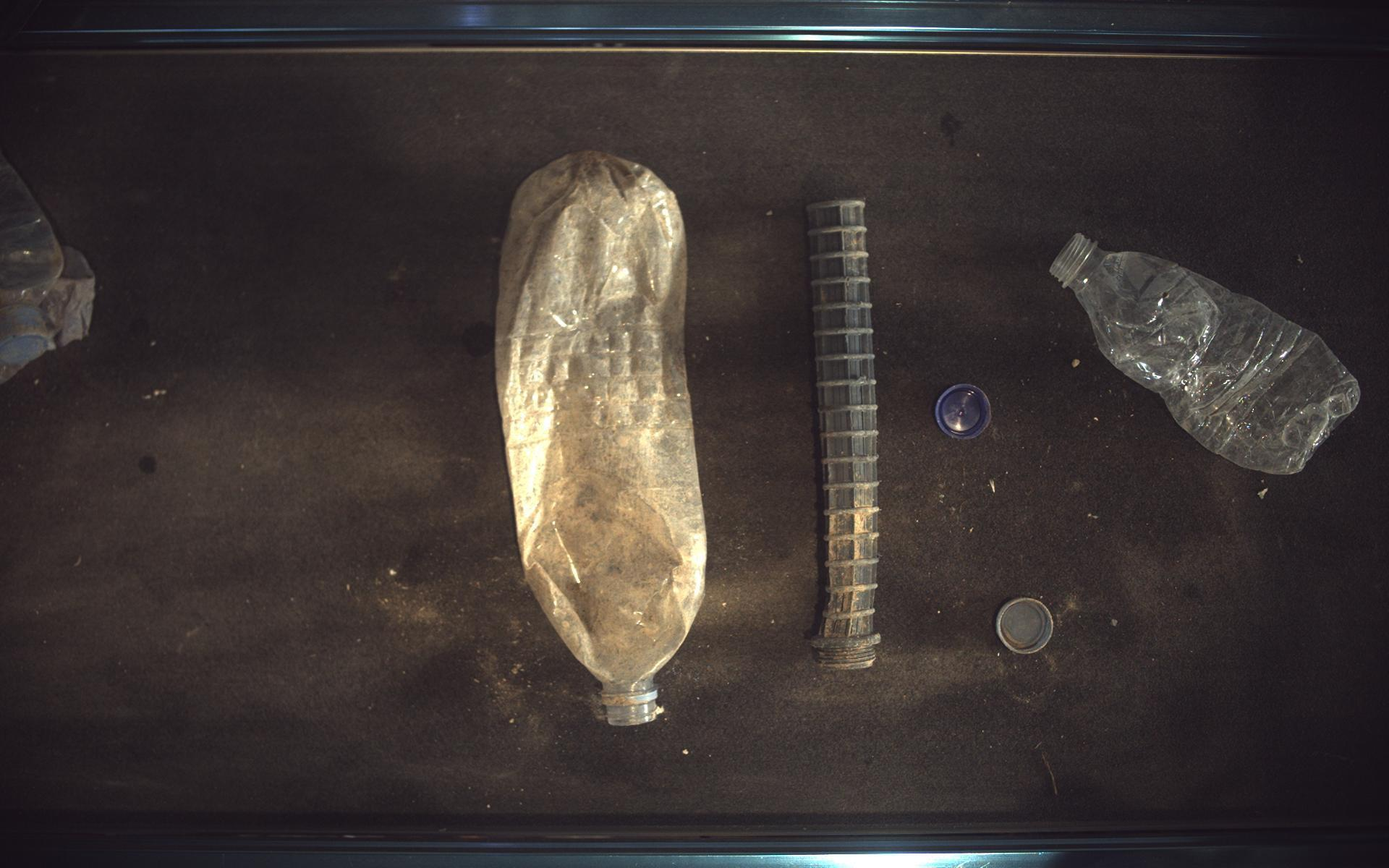general_w: (496, 151, 707, 726), (1053, 233, 1363, 474), (1, 153, 63, 383), (40, 245, 94, 346), (936, 383, 993, 440), (998, 598, 1055, 655)
plastic: (809, 199, 882, 671)
